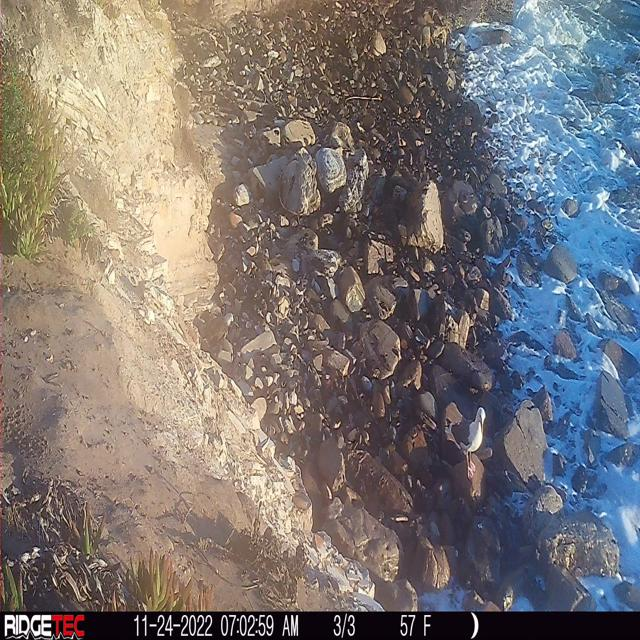bird: (434, 380, 499, 491)
